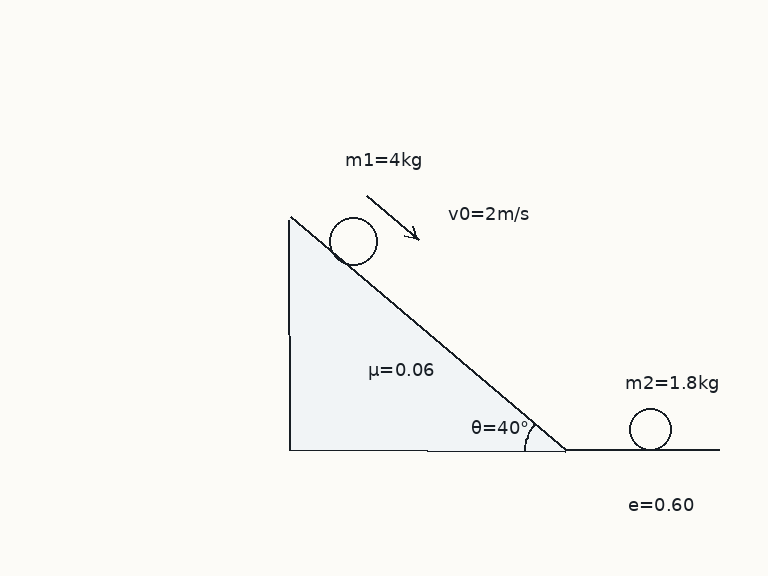ball: (327, 215, 379, 267), (627, 406, 673, 452)
ramp: (287, 217, 567, 452)
